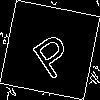P: (25, 25, 78, 81)
